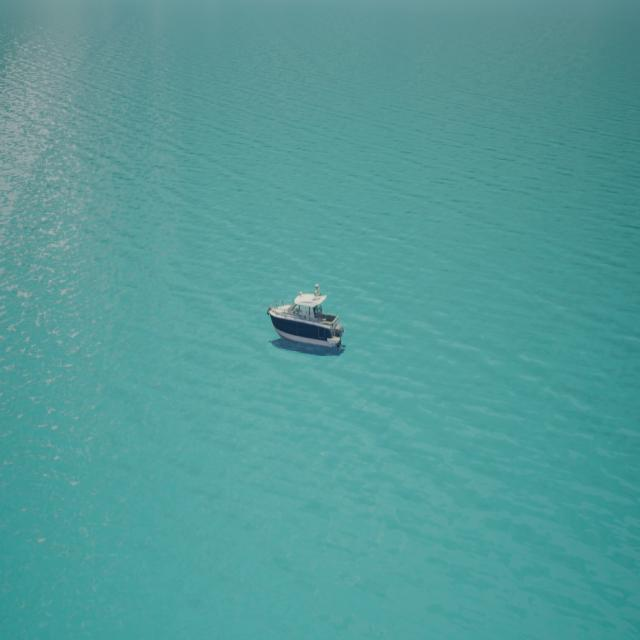ship: (267, 282, 346, 352)
